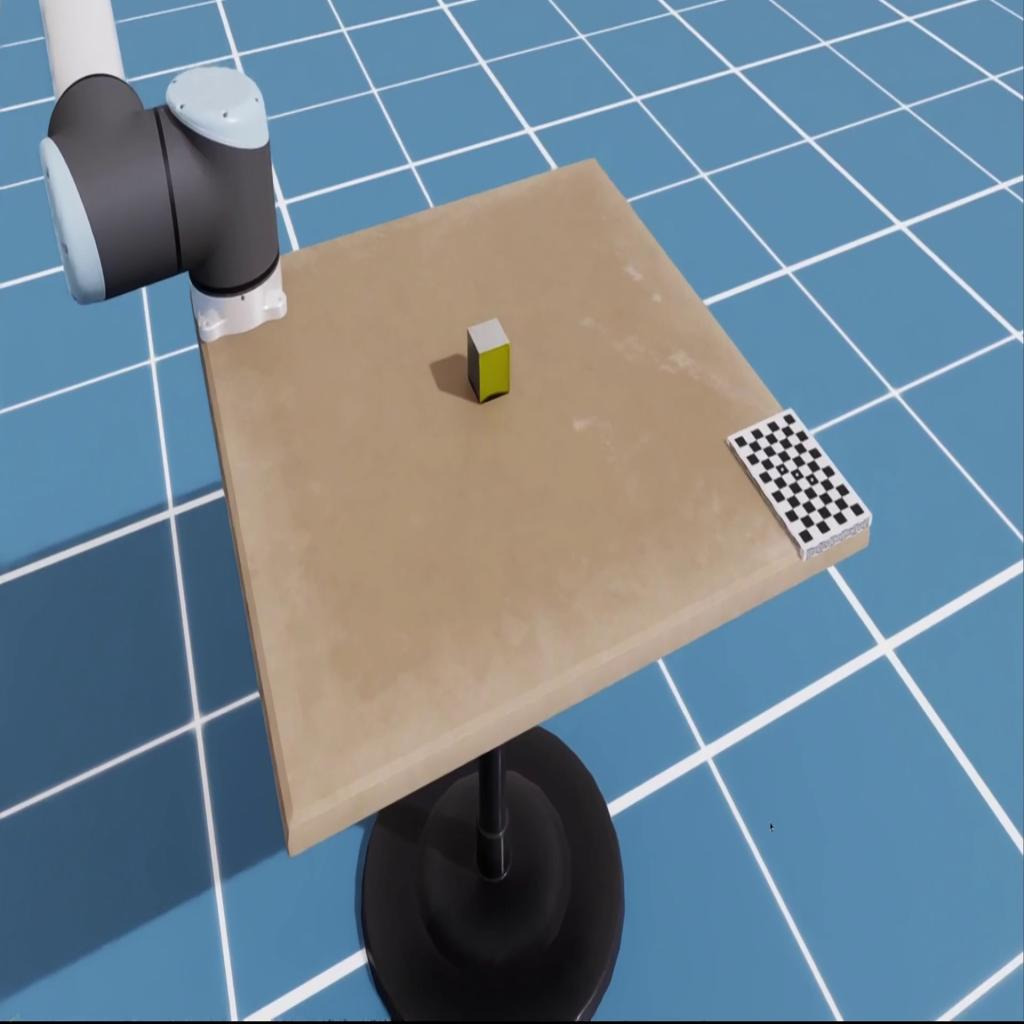Cube: (466, 317, 511, 404)
QR: (726, 406, 872, 562)
Robot: (37, 0, 287, 340)
Table: (190, 157, 870, 859)
